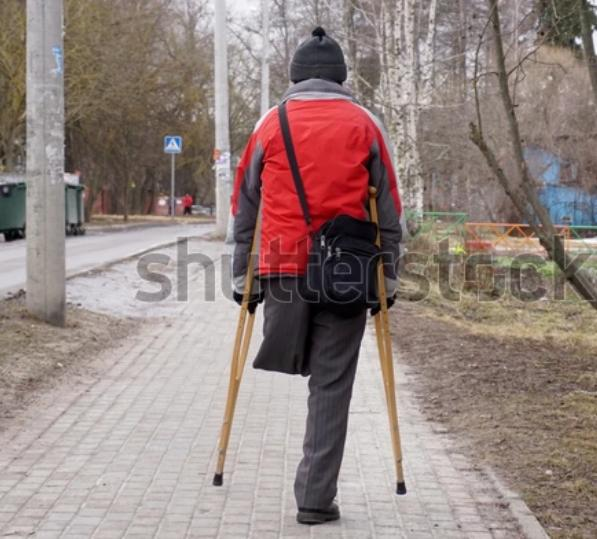crutches: (212, 25, 407, 525)
